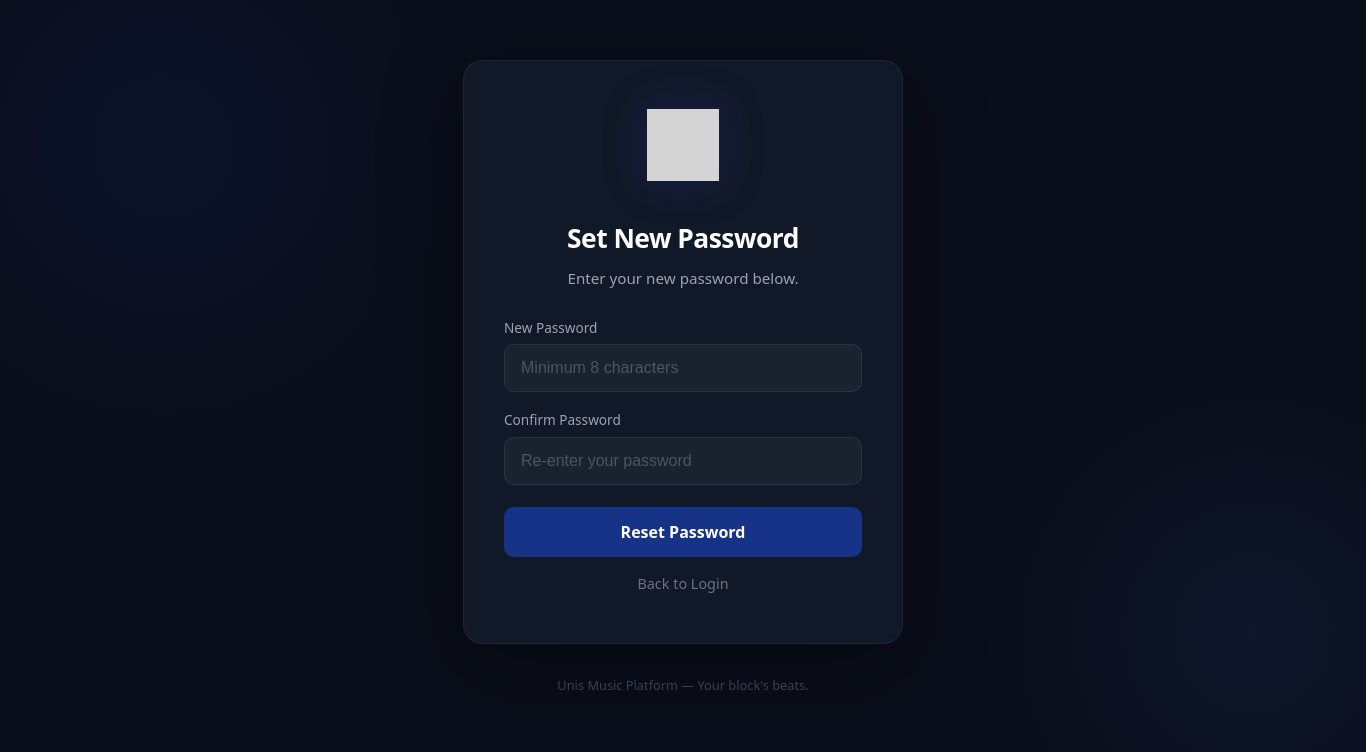
Test: API error handling › shows generic error banner and stays on form for unknown errors
Type "newpassword123" into the password field with placeholder "Minimum 8 characters".
click(683, 368); type("newpassword123")  # box [504,344,862,392]
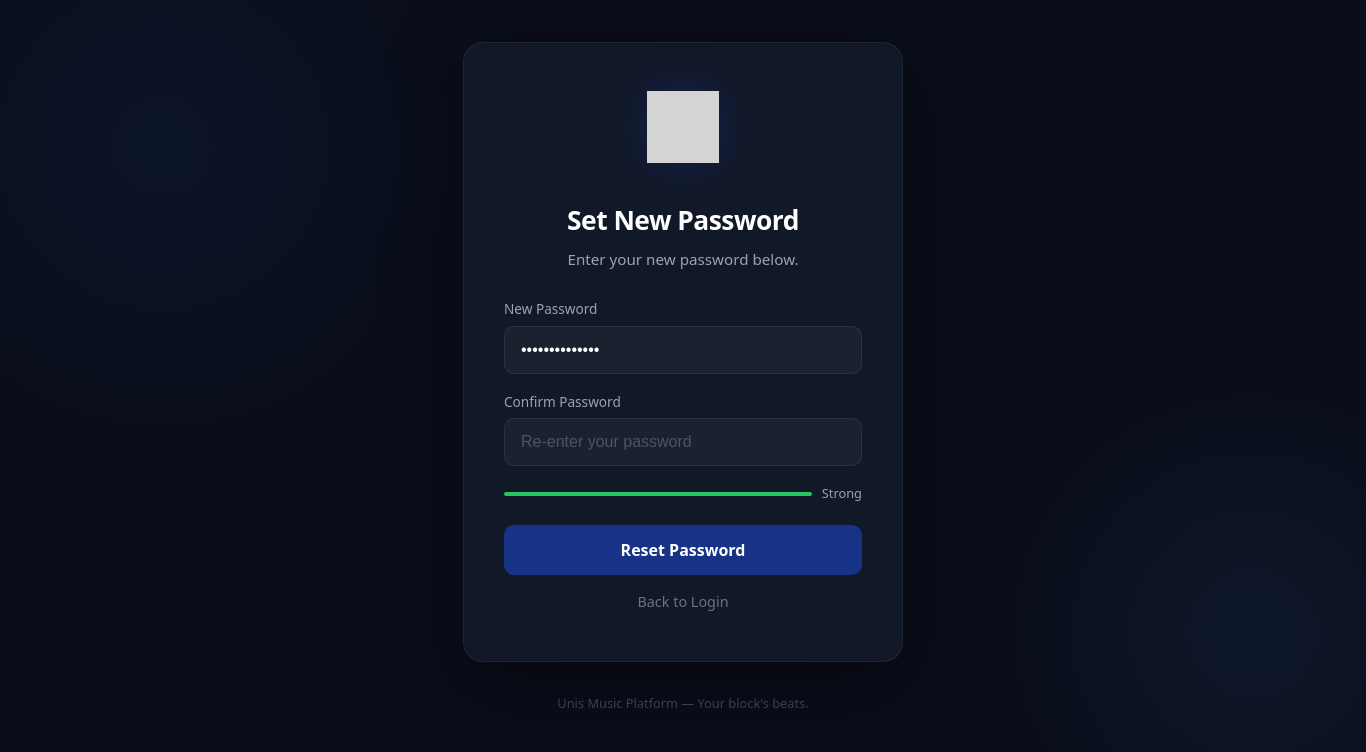
Type "newpassword123" into the password field with placeholder "Re-enter your password".
click(683, 442); type("newpassword123")  # box [504,418,862,466]
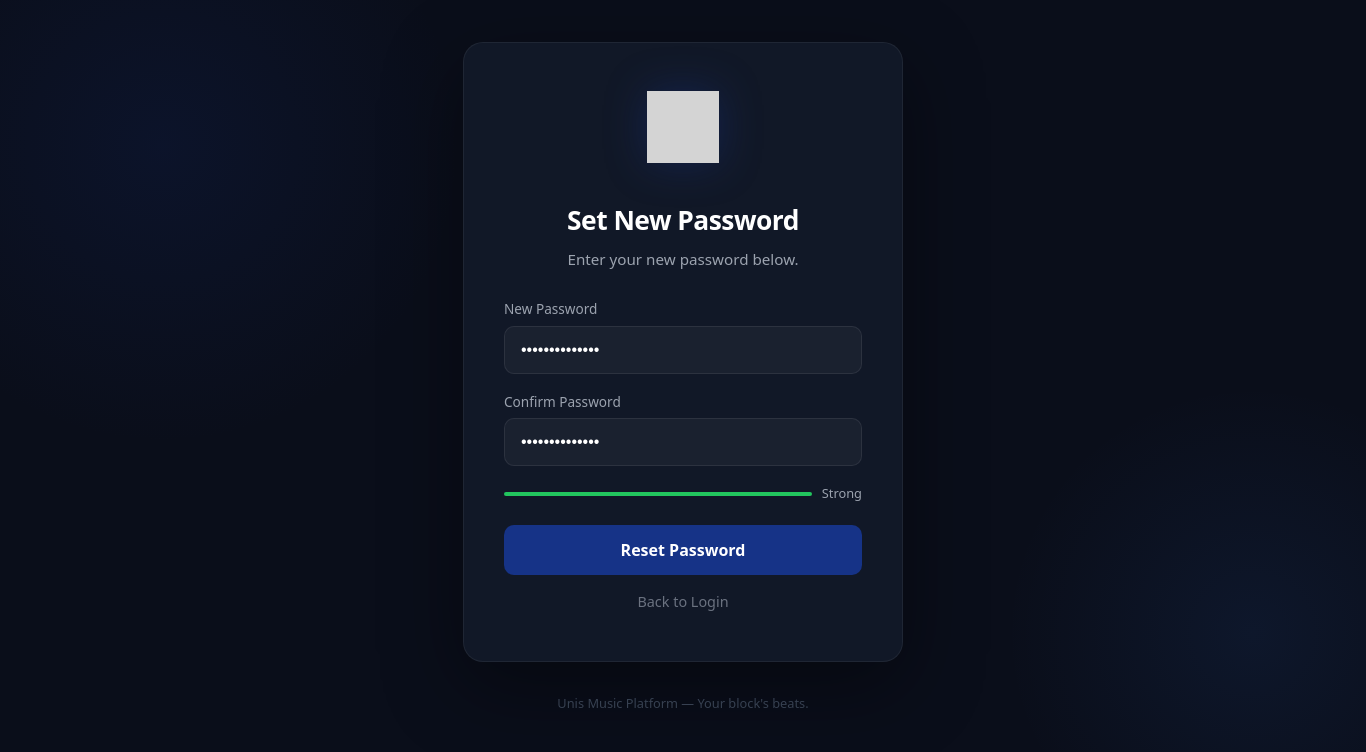
Click the button "Reset Password".
click(683, 550)  # box [504,525,862,575]
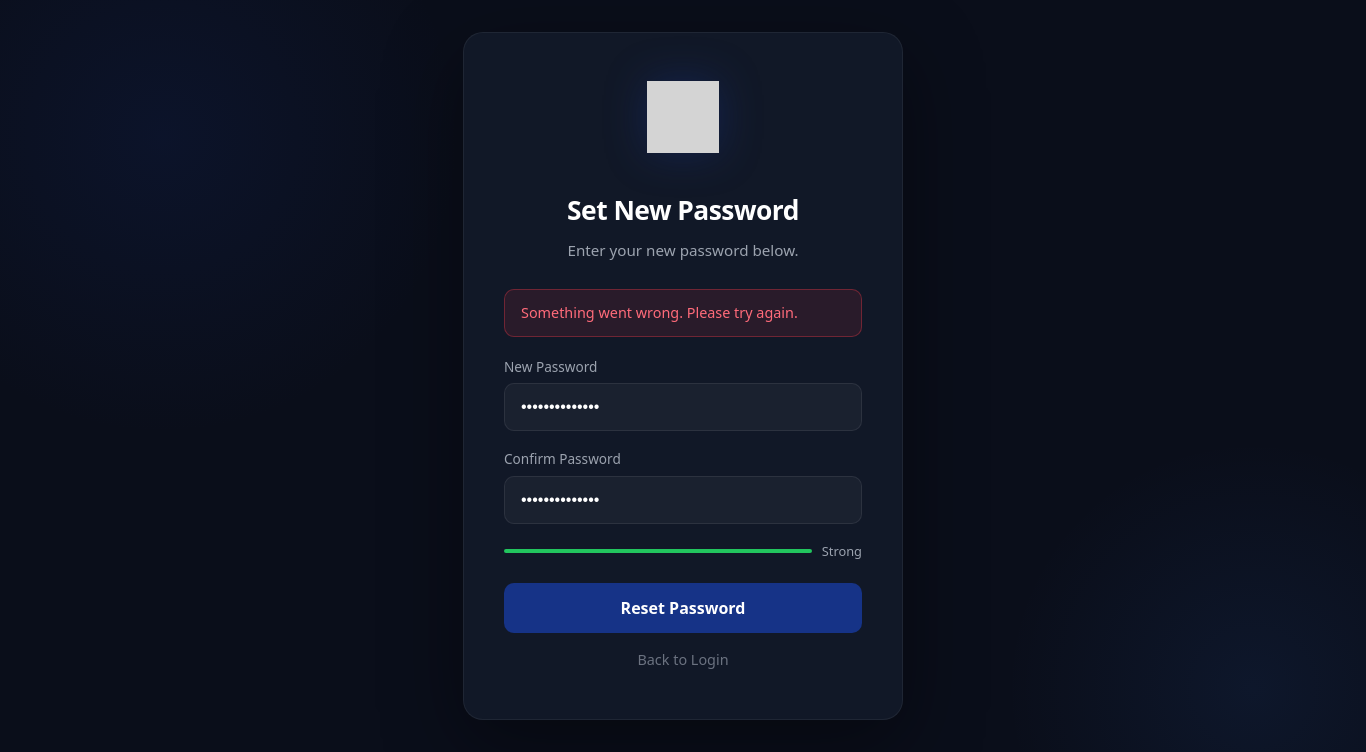
Now the text "Something went wrong. Please try again." is shown, box [504,289,862,337]
